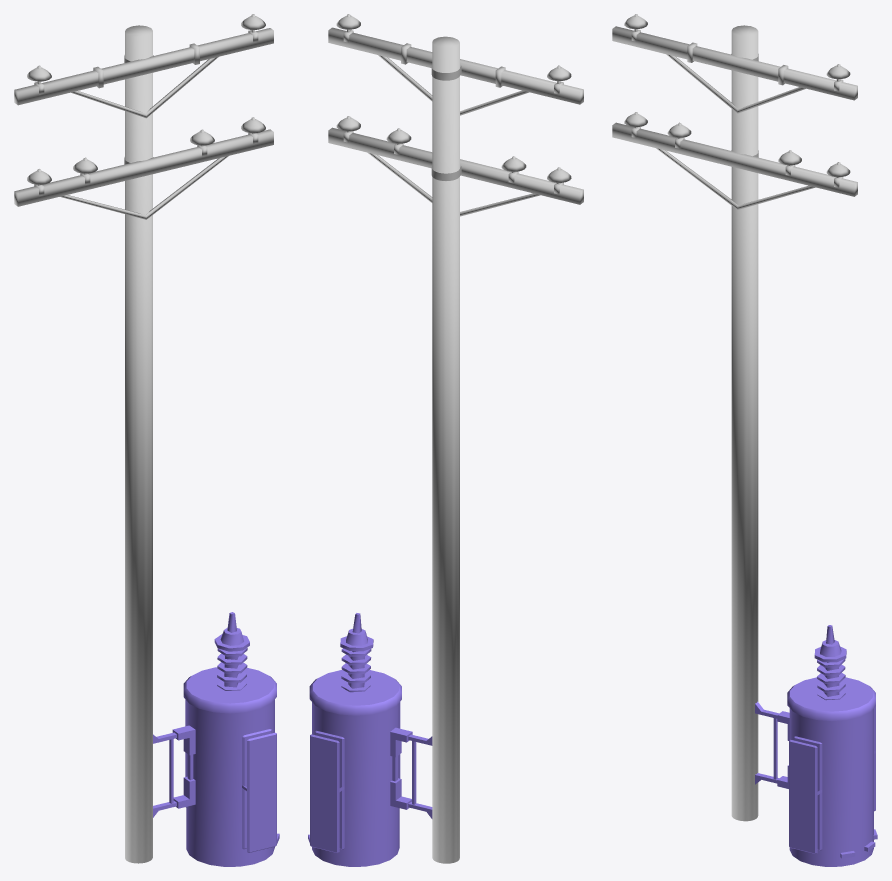
Rendered from poopy_newpole.obj.
3 views of the same model, side by side, from view 1: azimuth 30°, elevation 25°; view 2: azimuth 150°, elevation 25°; view 3: azimuth 330°, elevation 25° (orthographic). The views are drawn at different scales.
Parts seen in each view (by area): view 1: utilitypole01b_reference, utilityconducter001_reference, utilityconnecter006_reference; view 2: utilitypole01b_reference, utilityconducter001_reference, utilityconnecter006_reference; view 3: utilitypole01b_reference, utilityconducter001_reference, utilityconnecter006_reference.
Part boxes in pixels (x1=…): utilitypole01b_reference: x1=14, y1=14, x2=273, y2=863; utilityconducter001_reference: x1=153, y1=667, x2=279, y2=866; utilityconnecter006_reference: x1=214, y1=612, x2=249, y2=690; utilitypole01b_reference: x1=328, y1=14, x2=583, y2=863; utilityconducter001_reference: x1=308, y1=670, x2=432, y2=866; utilityconnecter006_reference: x1=340, y1=613, x2=373, y2=692; utilitypole01b_reference: x1=612, y1=14, x2=857, y2=821; utilityconducter001_reference: x1=755, y1=677, x2=877, y2=866; utilityconnecter006_reference: x1=814, y1=625, x2=846, y2=700.
Size of the model in its own units: 48.61 by 148 by 20.18.
